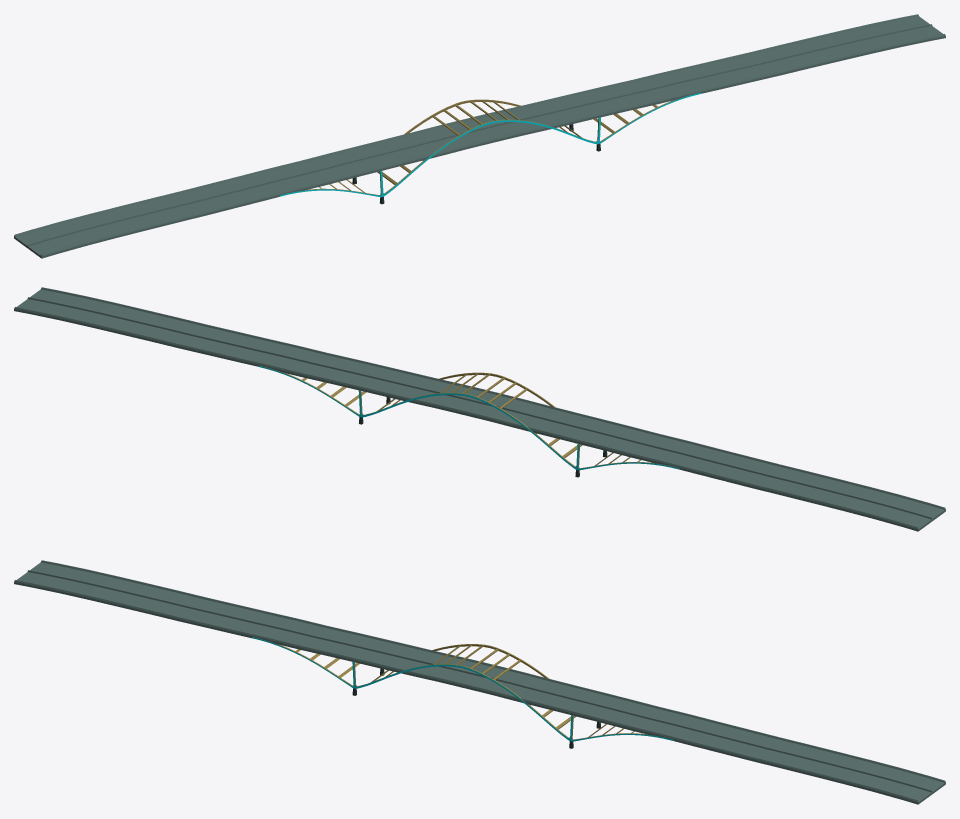
Rendered from Hone_Bridge.FBX.
3 views of the same model, one above another, from view 1: azimuth 30°, elevation 25°; view 2: azimuth 150°, elevation 25°; view 3: azimuth 330°, elevation 25° (orthographic).
Parts seen in each view (by area): view 1: Box001, Box006; view 2: Box001, Box006; view 3: Box001, Box006.
Part boxes in pixels (<box>): Box001: <box>14,14,945,258</box>; Box006: <box>280,92,701,197</box>; Box001: <box>14,287,945,531</box>; Box006: <box>258,365,679,470</box>; Box001: <box>14,560,945,804</box>; Box006: <box>252,637,673,741</box>.
Bounding box in the file's own units: 1046 × 61.11 × 58.47.
